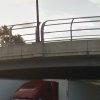Bridge: (3, 20, 92, 78)
